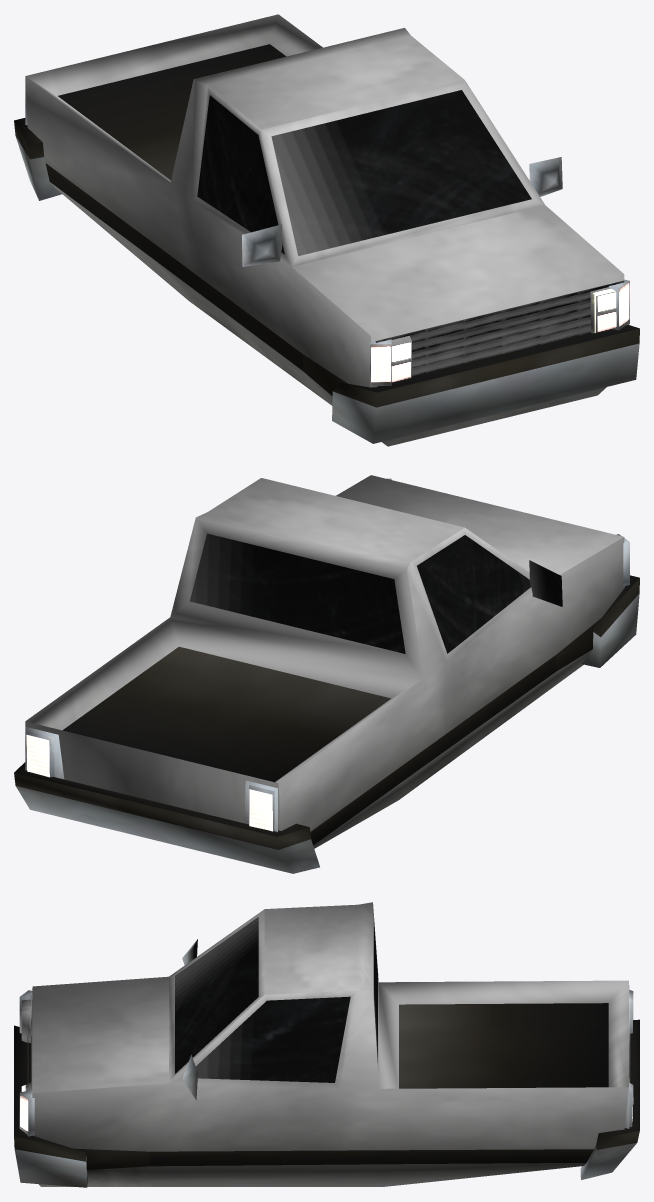
The model's file is EnemyCar_4_v3.fbx.
3 views of the same model, one above another, from view 1: azimuth 30°, elevation 25°; view 2: azimuth 150°, elevation 25°; view 3: azimuth 270°, elevation 25° (orthographic). The views are drawn at different scales.
Parts seen in each view (by area): view 1: Pickup.001; view 2: Pickup.001; view 3: Pickup.001.
Boxes of the visible parts, left/top/right/bottom form: Pickup.001: left=14, top=14, right=639, bottom=446; Pickup.001: left=14, top=475, right=639, bottom=873; Pickup.001: left=14, top=902, right=639, bottom=1187.
Size of the model in its own units: 75.86 by 51.35 by 149.
